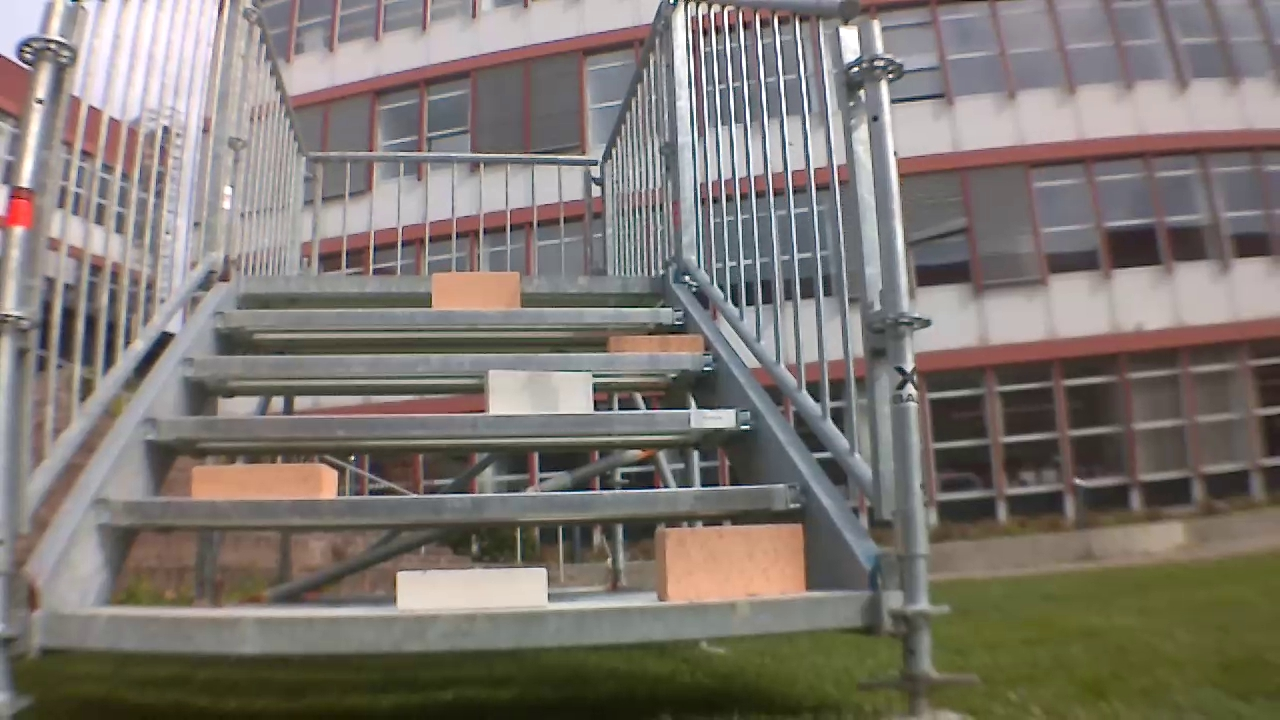brick: (652, 523, 811, 605), (395, 560, 554, 611), (184, 463, 339, 498), (487, 375, 598, 412), (430, 272, 522, 307), (604, 329, 705, 355)
edge: (36, 589, 880, 650), (101, 479, 802, 525), (143, 410, 756, 447), (208, 304, 690, 335), (175, 356, 720, 382), (237, 282, 649, 294)
stairs: (14, 0, 930, 677)
steps: (30, 275, 879, 645)
